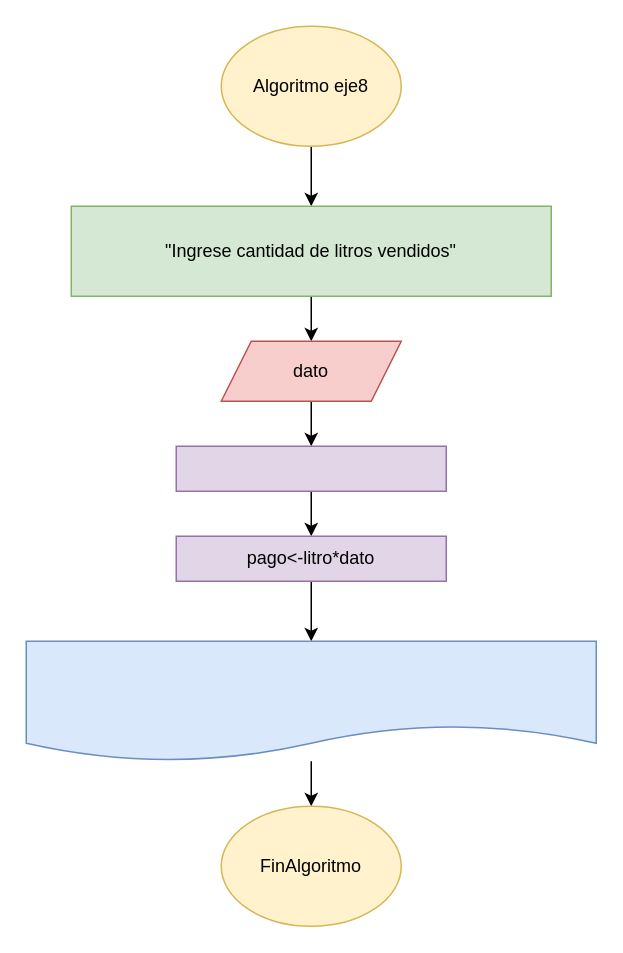
The diagram is 623 pixels wide and 953 high, and some of its shapes have lost their labels. Each missing label, with the box of its shape:
"El costo total por ", dato " litros de leche es " pago " Bs": (25, 640, 596, 761)
litro<-3.785: (175, 445, 446, 491)
